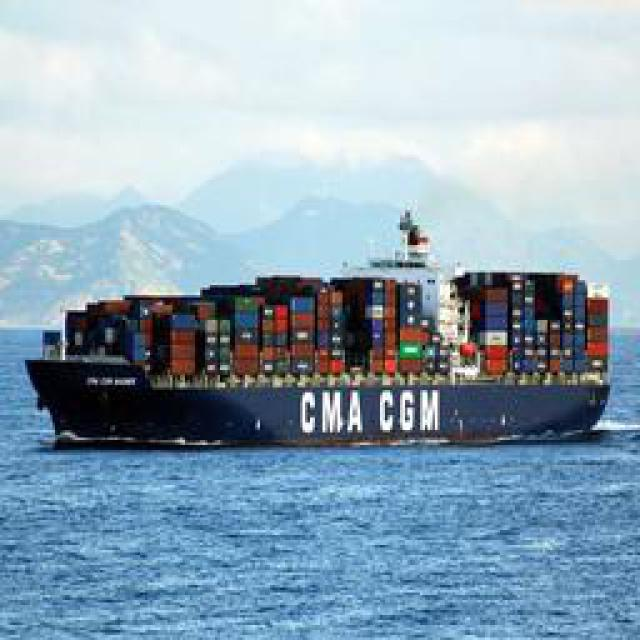Ship: (26, 219, 611, 449)
